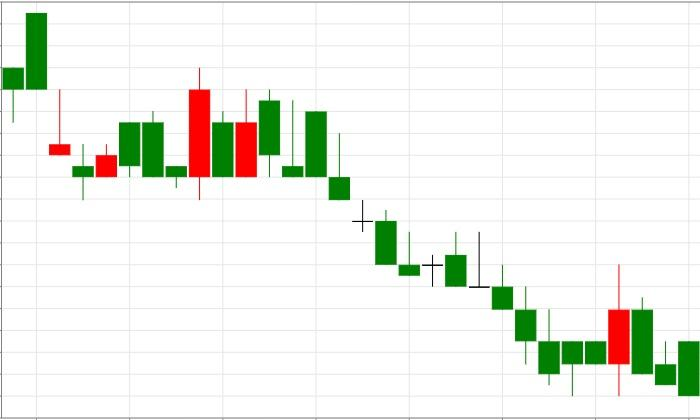bullish_engulfing_rise: (445, 231, 629, 397)
